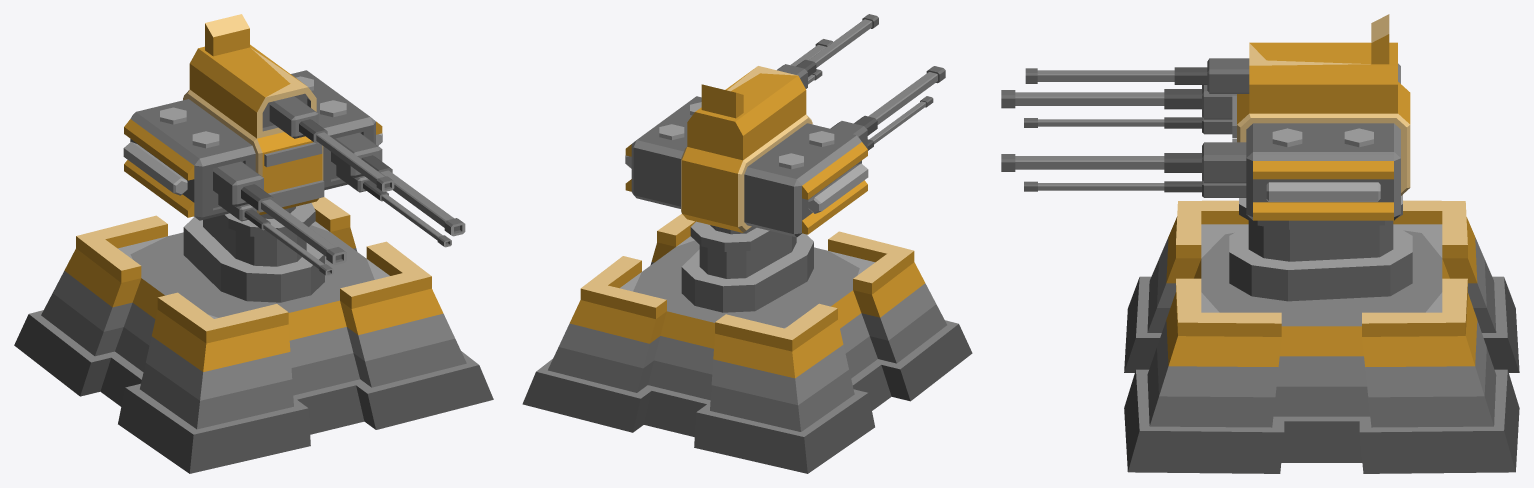
File: tower_rapid_yellow_3.fbx
The picture shows the model from 3 angles, left to right: view 1: azimuth 30°, elevation 25°; view 2: azimuth 150°, elevation 25°; view 3: azimuth 270°, elevation 25°; orthographic projection. The views are drawn at different scales.
Parts seen in each view (by area): view 1: tower_rapid_yellow_3, top_rapid_yellow_3; view 2: tower_rapid_yellow_3, top_rapid_yellow_3; view 3: tower_rapid_yellow_3, top_rapid_yellow_3.
Part boxes in pixels (x1,y1,x2,y2): tower_rapid_yellow_3: [14, 197, 493, 473]; top_rapid_yellow_3: [123, 14, 465, 302]; tower_rapid_yellow_3: [522, 214, 972, 473]; top_rapid_yellow_3: [625, 14, 945, 312]; tower_rapid_yellow_3: [1124, 200, 1519, 473]; top_rapid_yellow_3: [1001, 14, 1412, 301].
Size of the model in its own units: 171 by 175 by 224.
